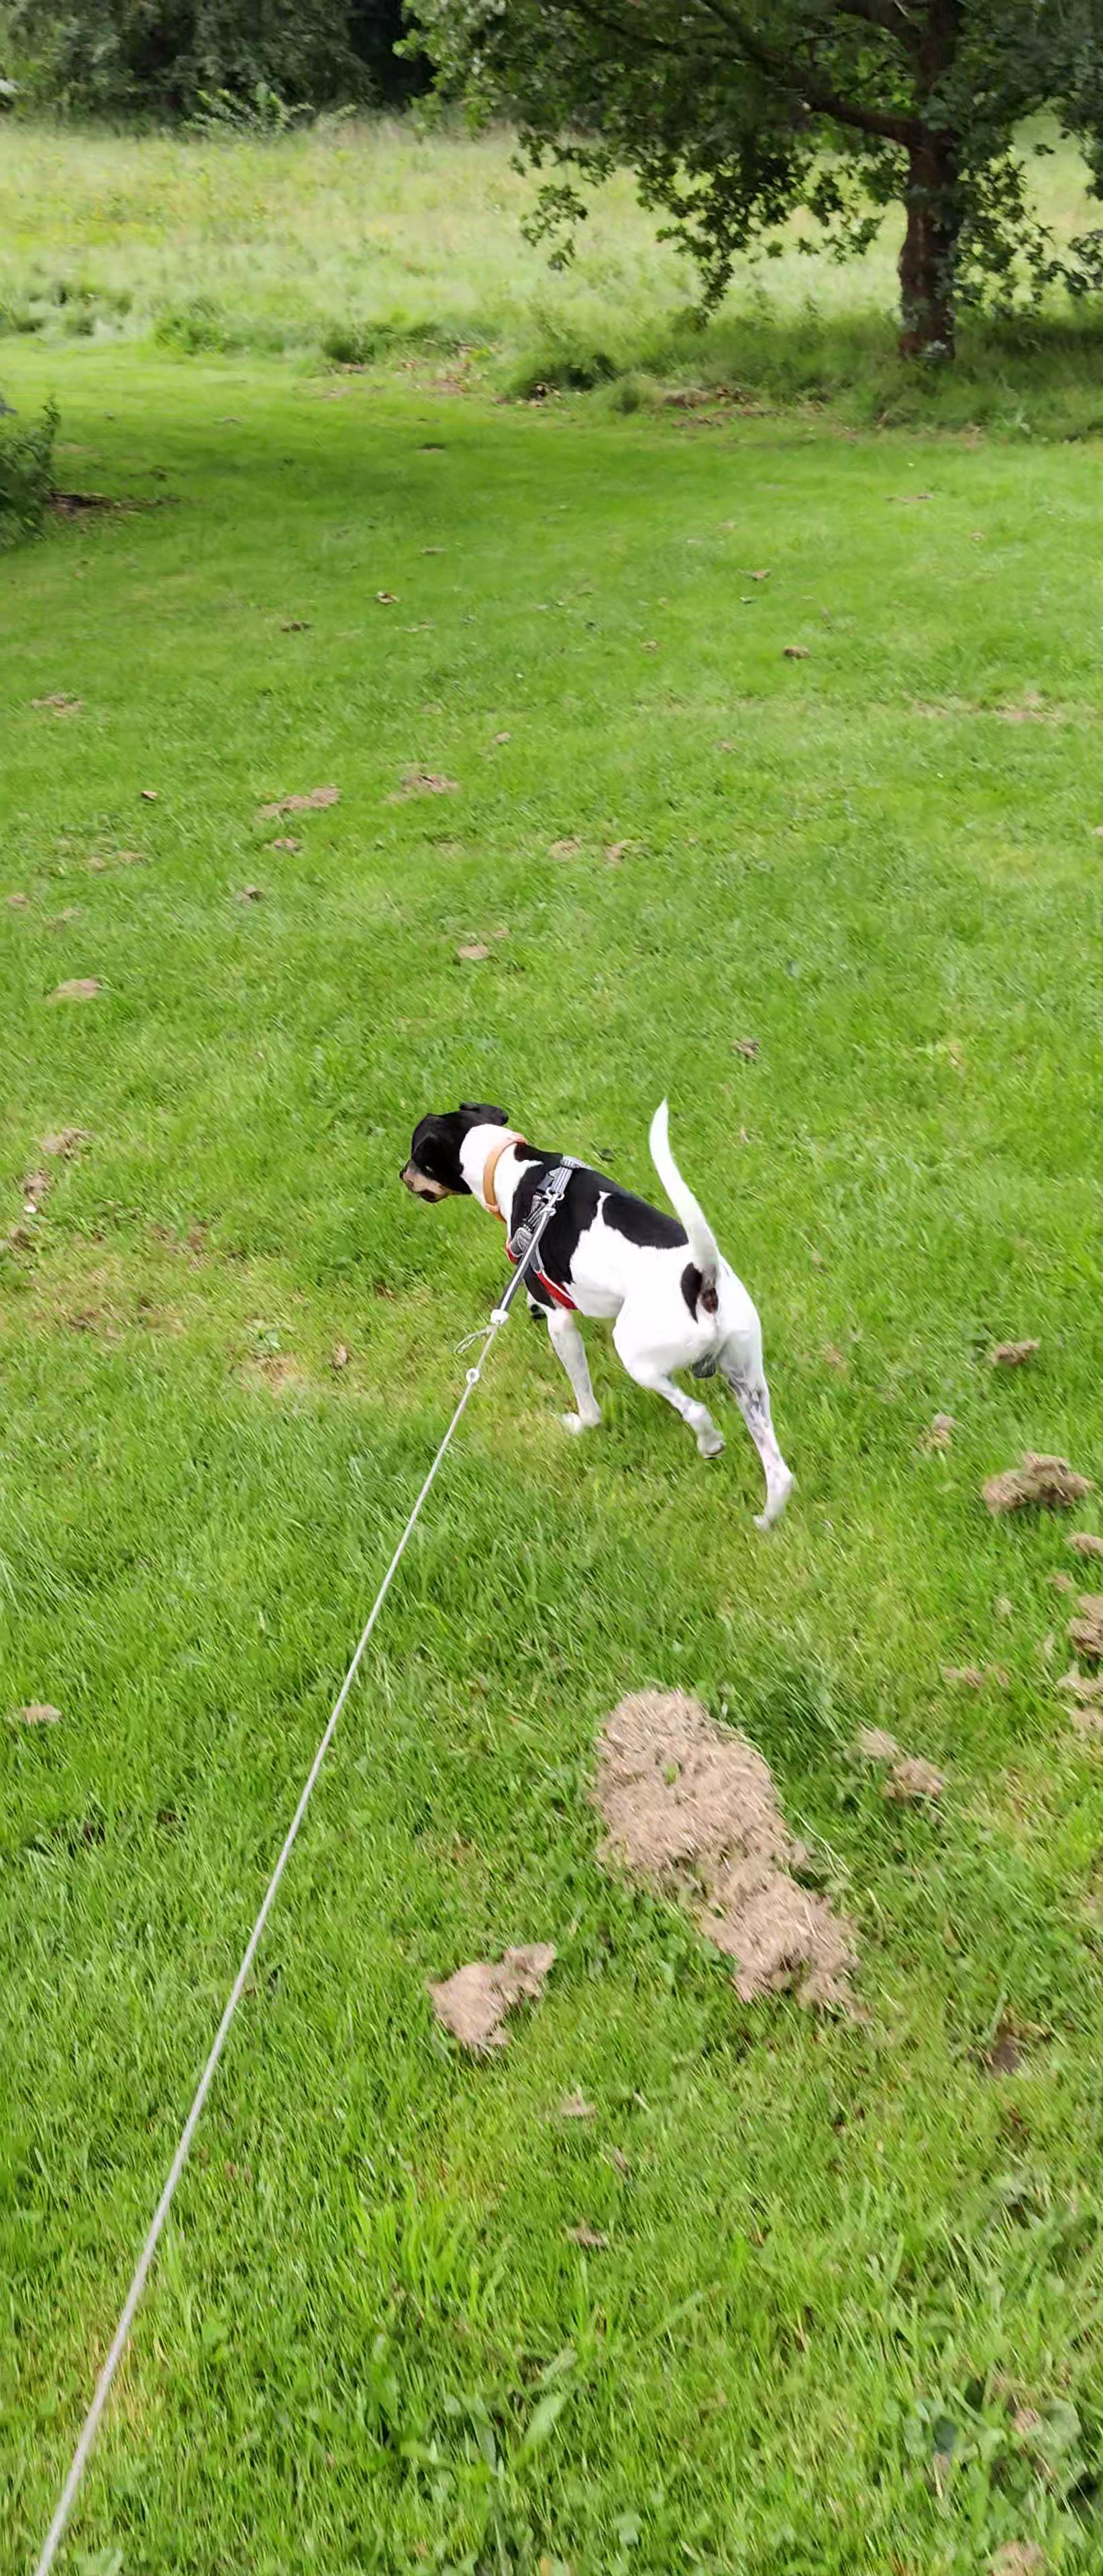Dog: (391, 1089, 792, 1533)
